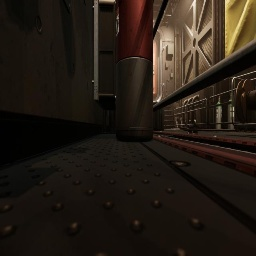0: (228, 92, 234, 129), (216, 96, 222, 129)
NitrogenTank ,: (115, 0, 153, 142)
